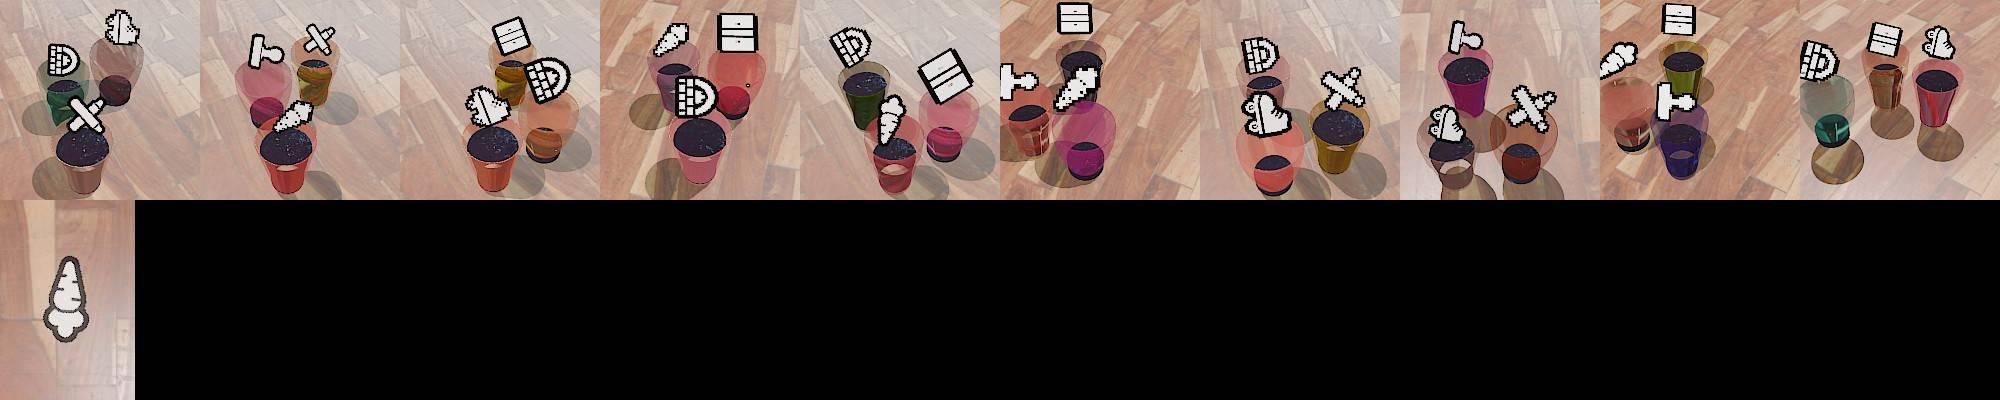icon: (41, 254, 89, 344), (917, 46, 973, 106), (1505, 84, 1559, 134), (1242, 90, 1293, 136), (1052, 62, 1098, 113), (526, 56, 571, 103), (466, 84, 514, 127), (1320, 68, 1367, 111), (673, 74, 717, 118), (829, 25, 871, 69), (491, 15, 533, 59), (717, 11, 759, 55), (1656, 78, 1700, 118), (875, 93, 907, 148), (1798, 41, 1838, 84), (1598, 41, 1639, 82), (1241, 36, 1281, 76), (272, 97, 315, 134), (1000, 62, 1040, 102), (68, 94, 107, 134), (1429, 103, 1467, 144), (247, 32, 287, 70), (651, 22, 690, 60), (105, 9, 140, 47), (1662, 1, 1698, 38), (1922, 24, 1957, 60), (1448, 19, 1482, 55), (1867, 22, 1902, 57), (1057, 1, 1093, 36), (47, 42, 79, 78), (304, 23, 337, 56)
